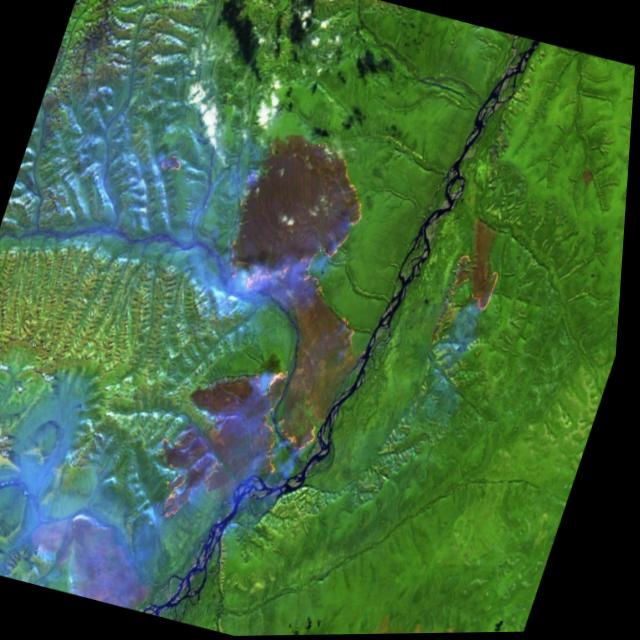fire: (148, 343, 341, 557), (214, 117, 391, 314), (442, 245, 515, 318)
